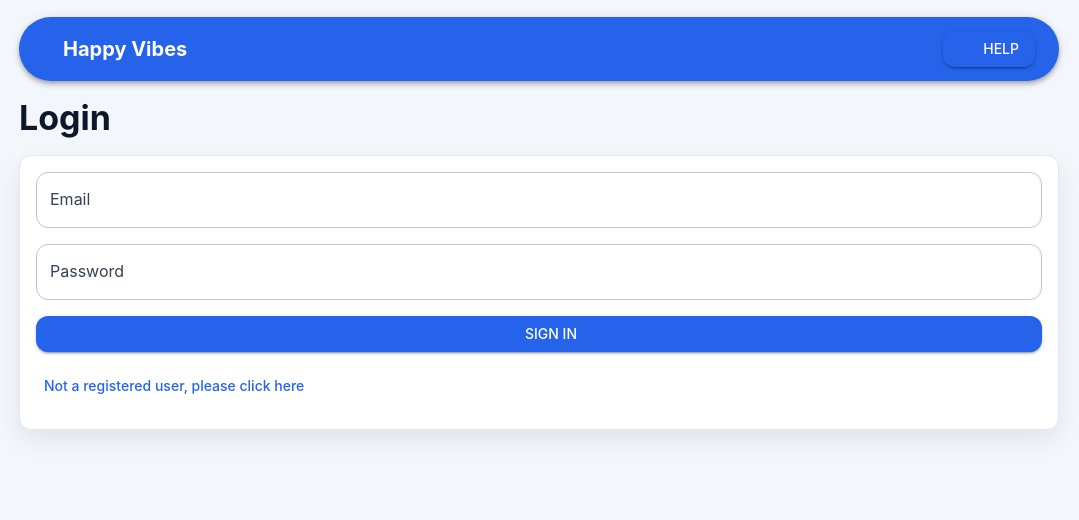
Feature: Login › should show validation for missing fields
Click the button with test id "login-submit": click(539, 335) [36, 316, 1042, 353]
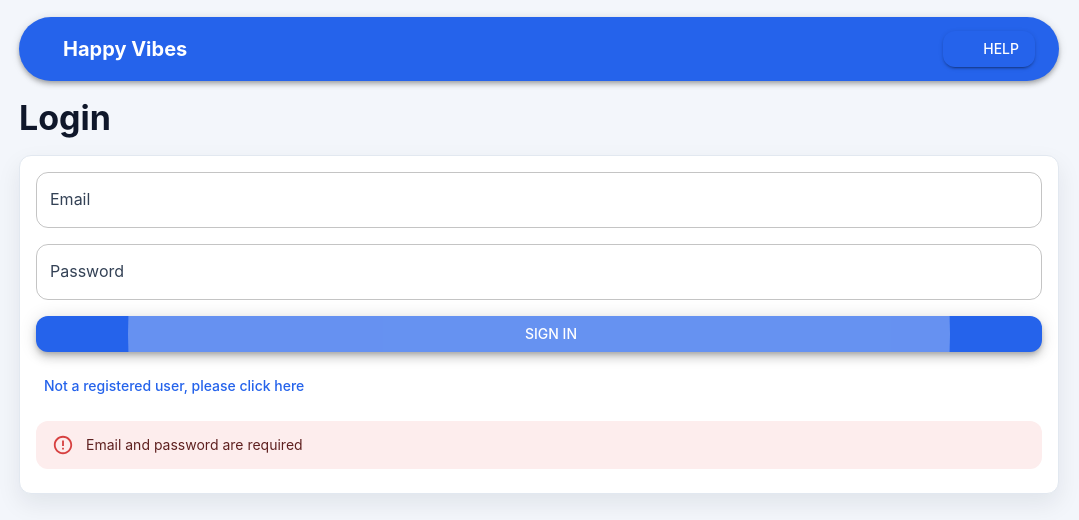
Expected: the text with test id "login-error" reads "Email and password are required", [86, 436, 303, 453]
